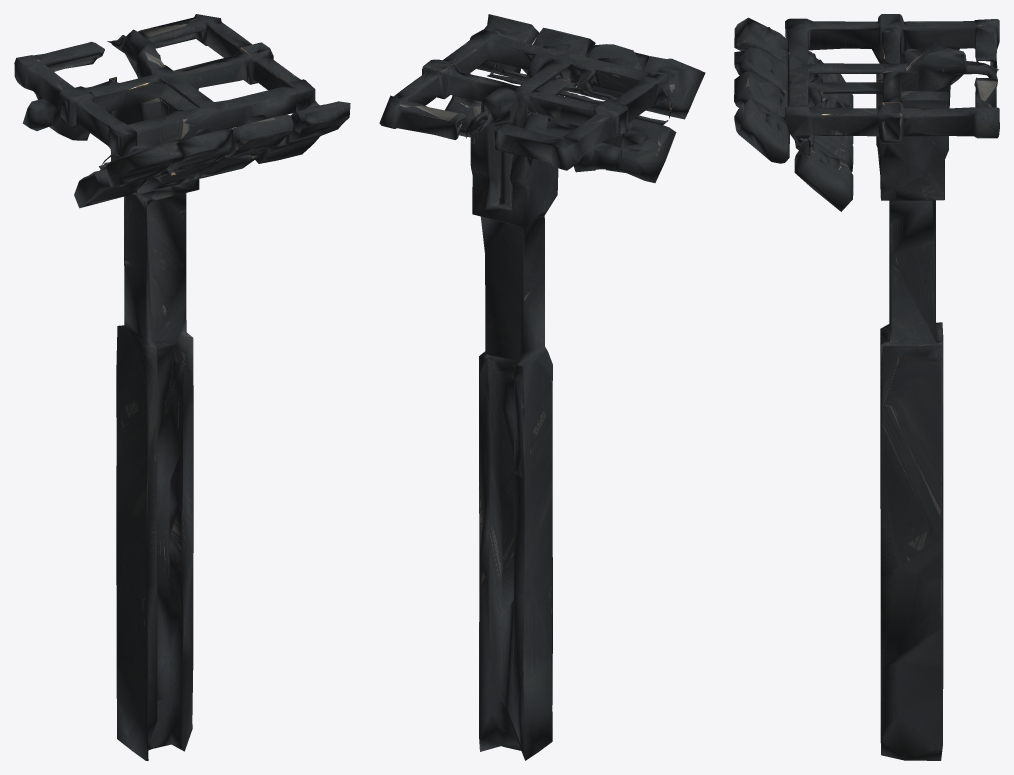
File: hoops_blacktopFloodlight.9e22faef.glb
3 renders of one model, left to right at view 1: azimuth 30°, elevation 25°; view 2: azimuth 150°, elevation 25°; view 3: azimuth 270°, elevation 25°, orthographic. The views are drawn at different scales.
Size of the model in its own units: 0.6946 by 2 by 0.6871.
1 material, 1 textured.
